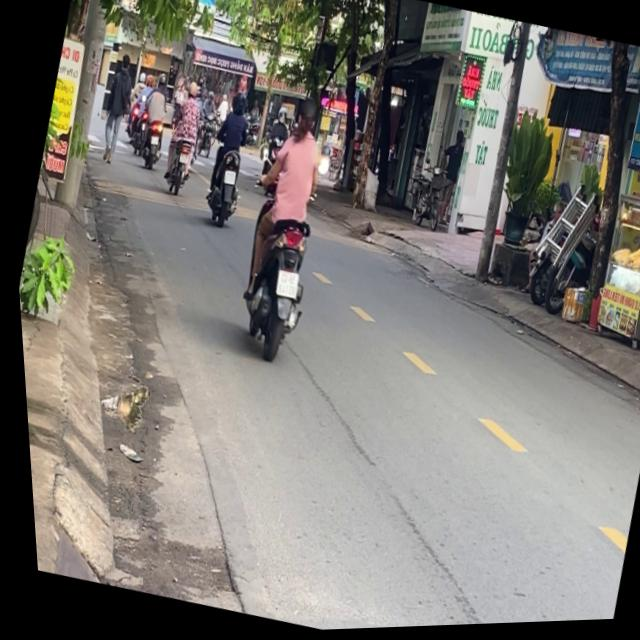licenseplate: (210, 88, 351, 366)
motorcyclist: (287, 95, 320, 139)
nohelmet: (268, 269, 297, 300)
